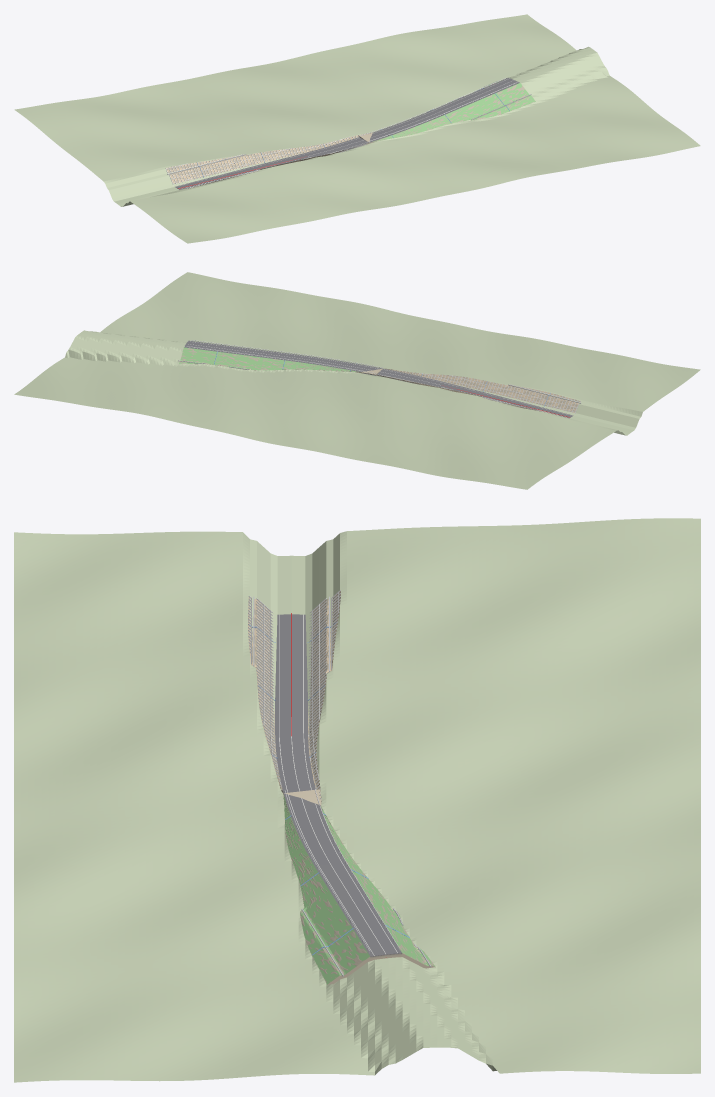
3 renders of one model, top to bottom at view 1: azimuth 30°, elevation 25°; view 2: azimuth 150°, elevation 25°; view 3: azimuth 270°, elevation 25°, orthographic. The views are drawn at different scales.
Parts seen in each view (by area): view 1: 地形|現況地形 (参考・土工後の地表面), 舗装|舗装 表層 t=5cm, 法面工|植生工 (種子散布, 右側 盛土法面), 出来形|法面出来形 (実測凹凸を反映, 左側), 法面|切土法面 1:1.0 (小段 1.5m@5m) [左側 No.0-132], 法面工|吹付法枠工 300×300 @2.0m (左側 切土法面), 出来形|法面出来形 (実測凹凸を反映, 右側); view 2: 地形|現況地形 (参考・土工後の地表面), 舗装|舗装 表層 t=5cm, 法面工|植生工 (種子散布, 左側 盛土法面), 出来形|法面出来形 (実測凹凸を反映, 右側), 法面|切土法面 1:1.0 (小段 1.5m@5m) [右側 No.0-122], 出来形|法面出来形 (実測凹凸を反映, 左側), 法面工|吹付法枠工 300×300 @2.0m (右側 切土法面); view 3: 地形|現況地形 (参考・土工後の地表面), 舗装|舗装 表層 t=5cm, 法面工|植生工 (種子散布, 右側 盛土法面), 出来形|法面出来形 (実測凹凸を反映, 右側), 法面工|吹付法枠工 300×300 @2.0m (左側 切土法面), 法面工|吹付法枠工 300×300 @2.0m (右側 切土法面), 出来形|法面出来形 (実測凹凸を反映, 左側), 法面工|植生工 (種子散布, 左側 盛土法面), 法面|切土法面 1:1.0 (小段 1.5m@5m) [左側 No.0-132], 法面|切土法面 1:1.0 (小段 1.5m@5m) [右側 No.0-122].
Part boxes in pixels (left/top/right/bottom): 地形|現況地形 (参考・土工後の地表面): left=14, top=14, right=700, bottom=243; 舗装|舗装 表層 t=5cm: left=175, top=78, right=519, bottom=189; 法面工|植生工 (種子散布, 右側 盛土法面): left=373, top=83, right=535, bottom=141; 出来形|法面出来形 (実測凹凸を反映, 左側): left=167, top=81, right=498, bottom=184; 法面|切土法面 1:1.0 (小段 1.5m@5m) [左側 No.0-132]: left=166, top=133, right=365, bottom=182; 法面工|吹付法枠工 300×300 @2.0m (左側 切土法面): left=165, top=133, right=367, bottom=185; 出来形|法面出来形 (実測凹凸を反映, 右側): left=197, top=84, right=534, bottom=186; 地形|現況地形 (参考・土工後の地表面): left=14, top=272, right=700, bottom=489; 舗装|舗装 表層 t=5cm: left=184, top=340, right=573, bottom=418; 法面工|植生工 (種子散布, 左側 盛土法面): left=179, top=347, right=358, bottom=371; 出来形|法面出来形 (実測凹凸を反映, 右側): left=333, top=359, right=580, bottom=411; 法面|切土法面 1:1.0 (小段 1.5m@5m) [右側 No.0-122]: left=389, top=369, right=579, bottom=412; 出来形|法面出来形 (実測凹凸を反映, 左側): left=179, top=348, right=539, bottom=411; 法面工|吹付法枠工 300×300 @2.0m (右側 切土法面): left=399, top=370, right=580, bottom=413; 地形|現況地形 (参考・土工後の地表面): left=14, top=518, right=700, bottom=1082; 舗装|舗装 表層 t=5cm: left=275, top=614, right=401, bottom=956; 法面工|植生工 (種子散布, 右側 盛土法面): left=283, top=794, right=369, bottom=984; 出来形|法面出来形 (実測凹凸を反映, 右側): left=248, top=597, right=366, bottom=982; 法面工|吹付法枠工 300×300 @2.0m (左側 切土法面): left=308, top=590, right=340, bottom=799; 法面工|吹付法枠工 300×300 @2.0m (右側 切土法面): left=248, top=596, right=279, bottom=778; 出来形|法面出来形 (実測凹凸を反映, 左側): left=308, top=592, right=433, bottom=965; 法面工|植生工 (種子散布, 左側 盛土法面): left=321, top=807, right=435, bottom=966; 法面|切土法面 1:1.0 (小段 1.5m@5m) [左側 No.0-132]: left=308, top=591, right=340, bottom=797; 法面|切土法面 1:1.0 (小段 1.5m@5m) [右側 No.0-122]: left=248, top=597, right=282, bottom=789.
Size of the model in its own units: 338 by 21.85 by 198.
